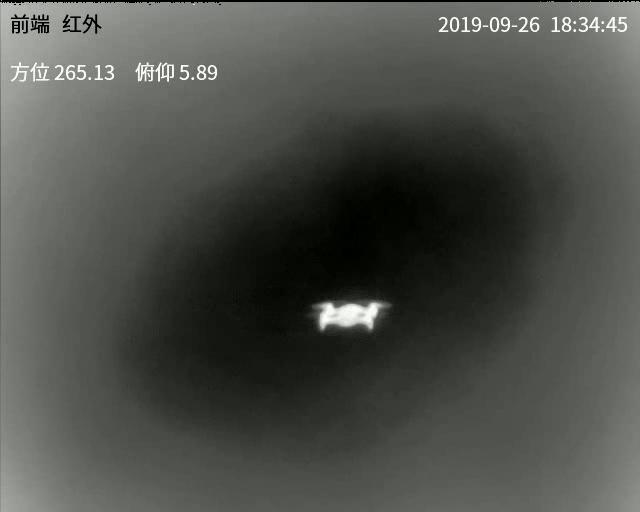DRONE: (311, 299, 386, 333)
